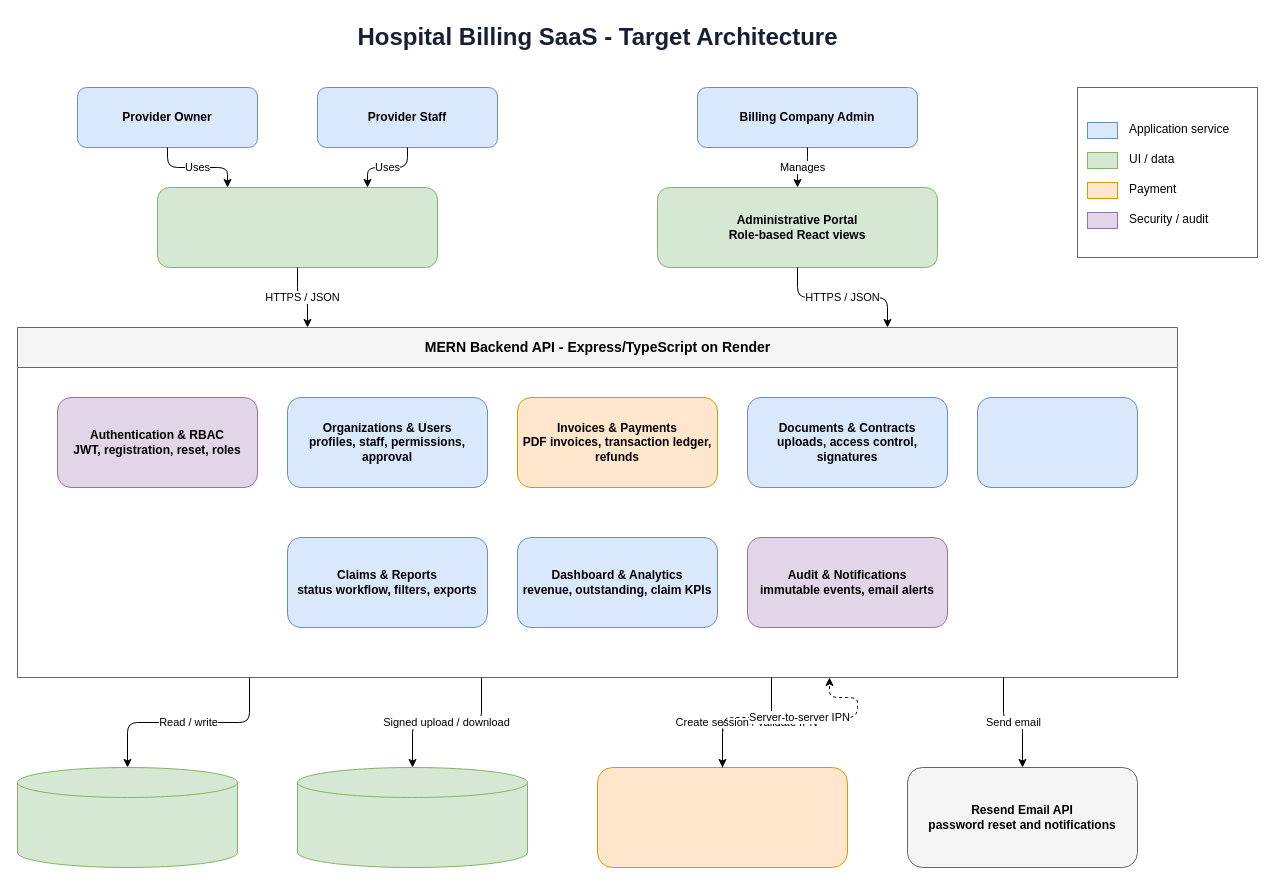
Image size: 1275x885. Some labels were removed from this diagram. The box of each missing label's shape, as (x1, y1, x2, y2) in pixels:
Appointments & Messaging slots, bookings, conversations: (976, 396, 1138, 488)
Cloudinary / Object Storage documents and generated PDFs: (296, 766, 528, 868)
Legend: (1076, 86, 1258, 258)
MongoDB Atlas tenant-scoped application data: (16, 766, 238, 868)
Provider Portal React + Vite on Vercel: (156, 186, 438, 268)
SSLCOMMERZ Hosted checkout + Bangla QR URL IPN and validation API: (596, 766, 848, 868)
